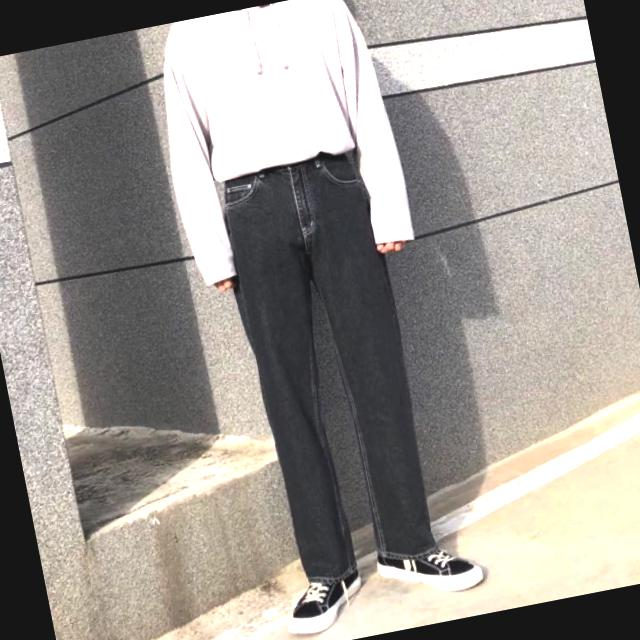denimpants: (216, 146, 444, 586)
hoodies: (142, 0, 417, 292)
